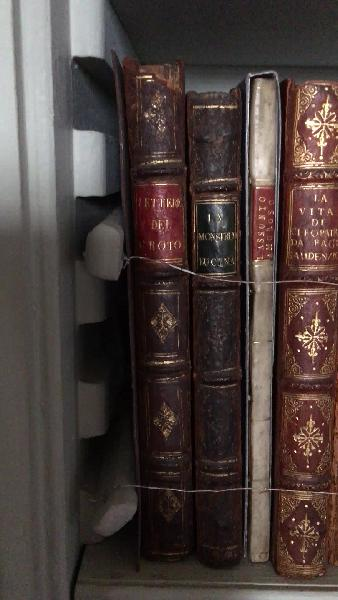Aa6-1: (116, 42, 198, 568)
Aa6-2: (183, 76, 253, 571)
Aa6-3: (236, 50, 280, 570)
Aa6-4: (278, 64, 338, 562)
